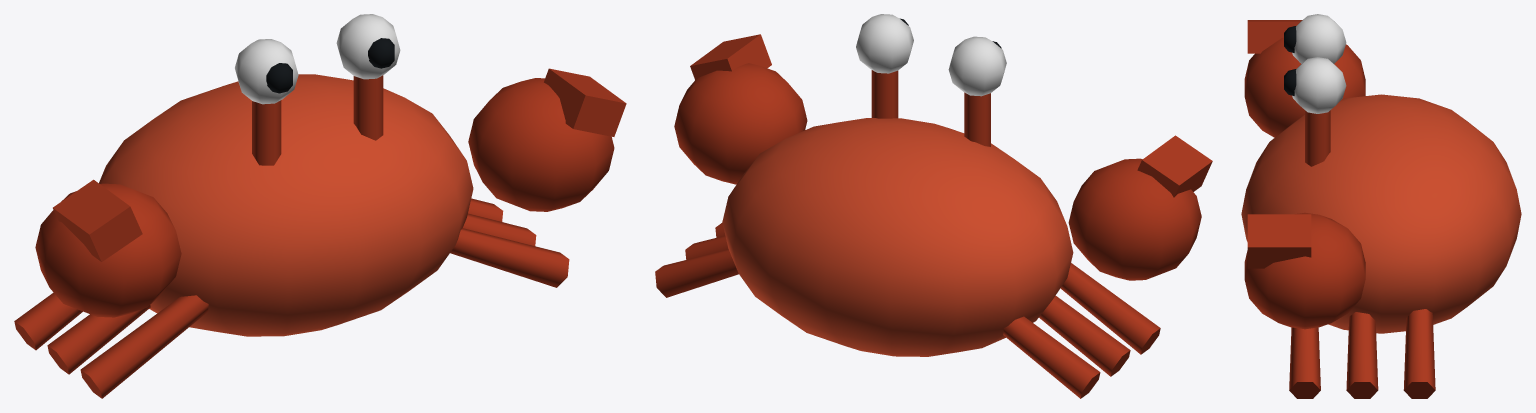
File: crab.glb
3 views of the same model, side by side, from view 1: azimuth 30°, elevation 25°; view 2: azimuth 150°, elevation 25°; view 3: azimuth 270°, elevation 25° (orthographic). The views are drawn at different scales.
Visible parts, largest first — view 1: crab; view 2: crab; view 3: crab.
Part boxes in pixels (bbox=[...]): crab: bbox=[14, 14, 626, 398]; crab: bbox=[655, 14, 1212, 398]; crab: bbox=[1241, 14, 1521, 398].
Size of the model in its own units: 0.88 by 0.47 by 0.44.
